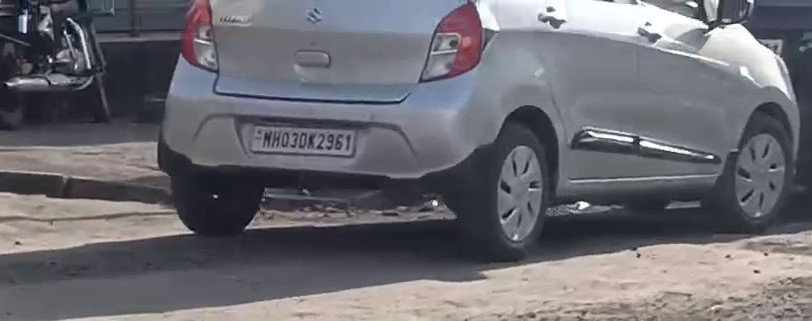MH03DK2961: (250, 123, 357, 156)
